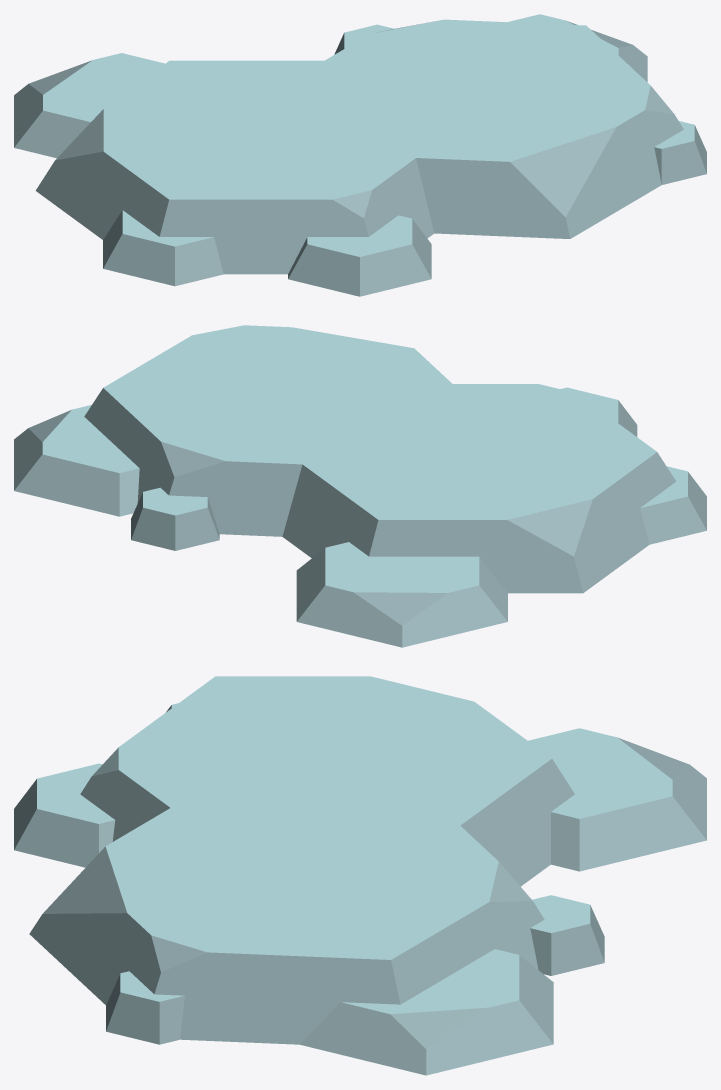
The model's file is platform_stone.dae.
3 views of the same model, one above another, from view 1: azimuth 30°, elevation 25°; view 2: azimuth 150°, elevation 25°; view 3: azimuth 270°, elevation 25° (orthographic). The views are drawn at different scales.
Visible parts, largest first — view 1: platform_stone; view 2: platform_stone; view 3: platform_stone.
Part boxes in pixels (x1,y1,x2,y2): platform_stone: (14, 14, 706, 296); platform_stone: (14, 325, 706, 647); platform_stone: (14, 676, 706, 1075).
Size of the model in its own units: 0.8932 by 0.0825 by 0.7239.
